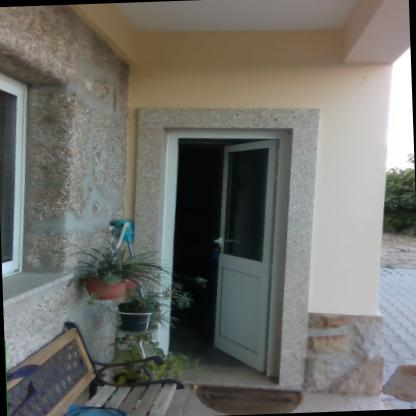semi: (130, 114, 310, 392)
